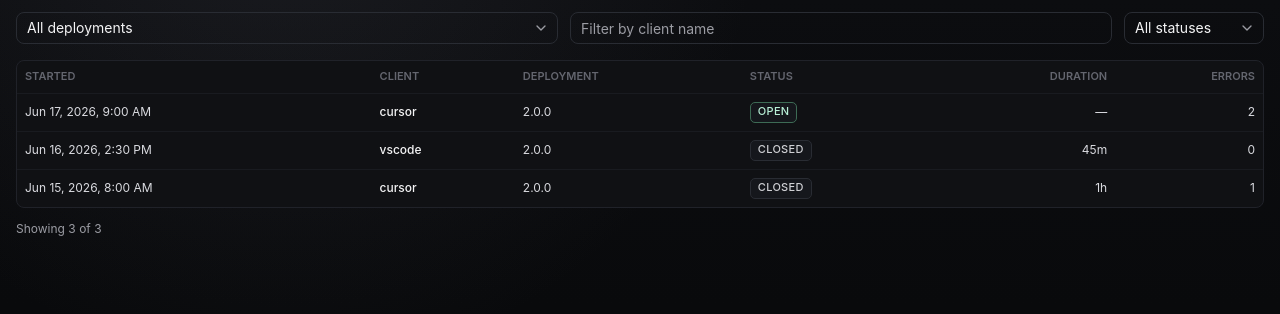
SessionsTable › navigates to session timeline when a row is clicked
Click the link with test id "session-row-ses_test001". click: (640,112)
box: [17, 93, 1263, 131]
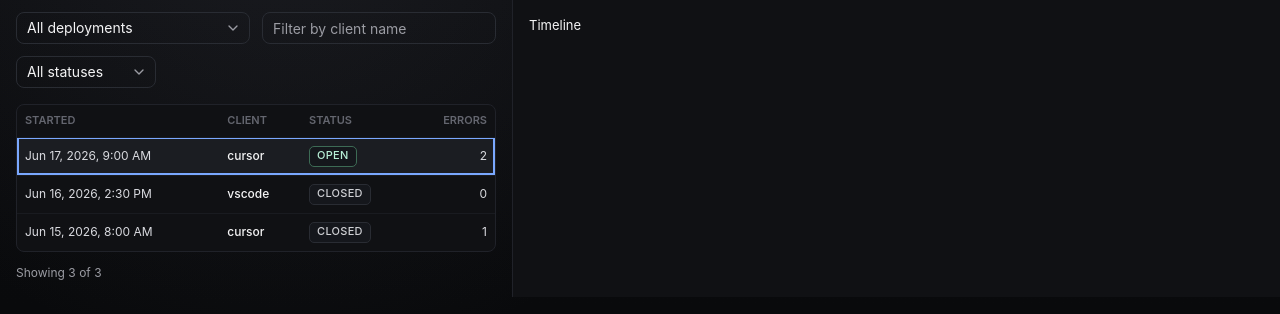
expect the text "Timeline" is shown: met, box [529, 17, 581, 33]
